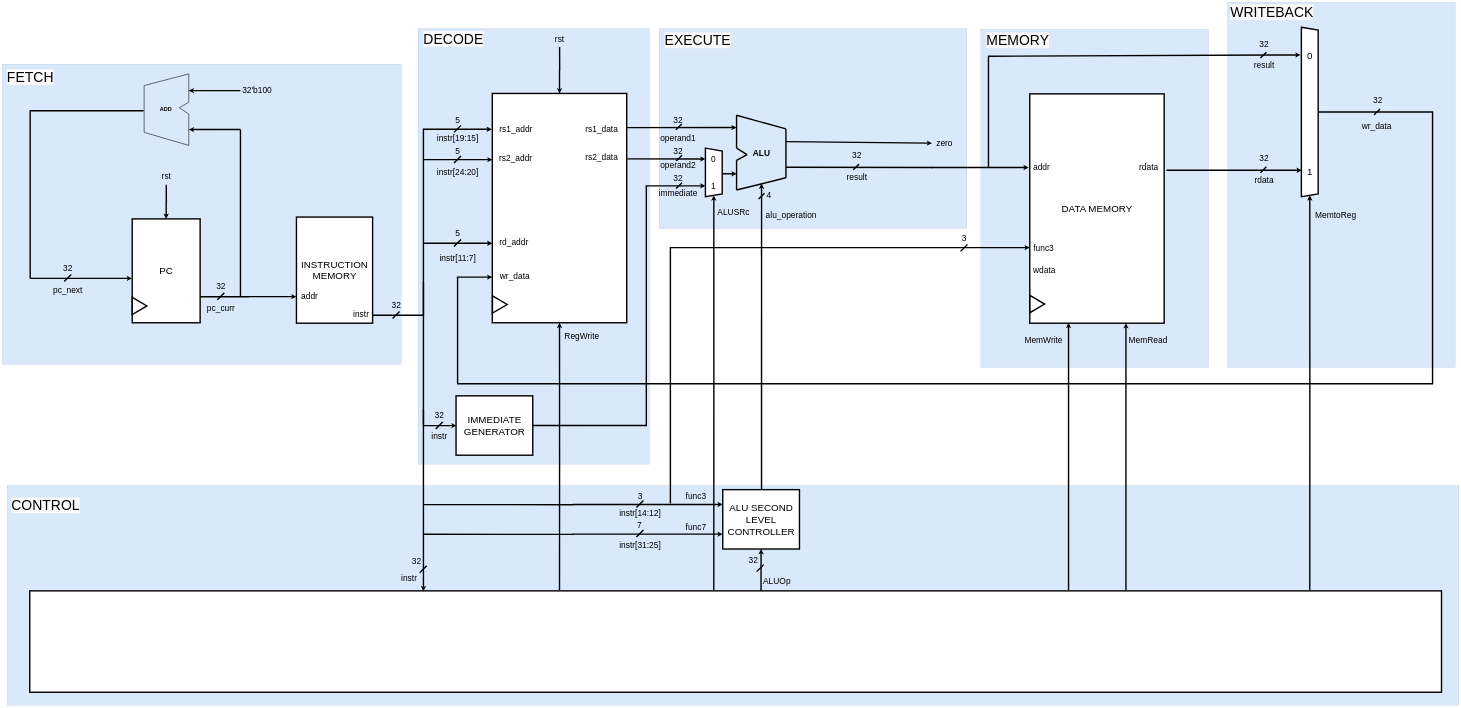
This 1461x708 diagram has some shape labels left out. The shapes that lost their labels are listed below. From the top down, each one's box as (x1, y1, x2, y2) in pixels, then its label:
(492, 93, 627, 323): REGISTER FILE
(29, 590, 1442, 693): ALU FIRST LEVEL CONTROLLER
